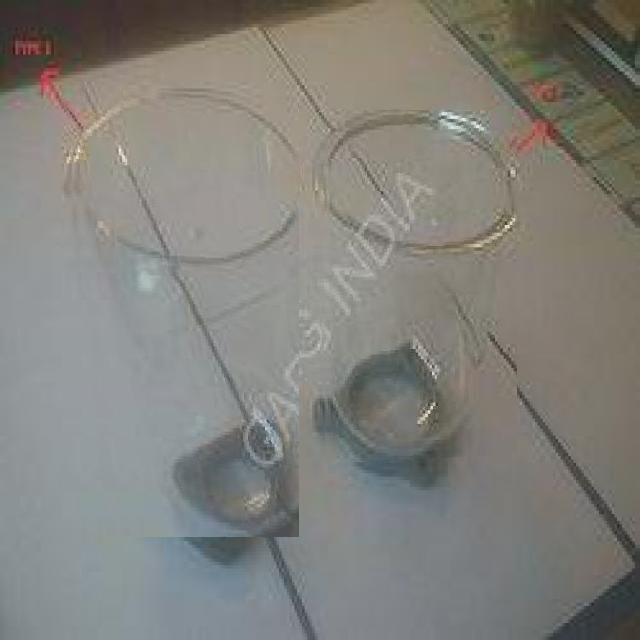Glass: (63, 85, 299, 538), (316, 110, 518, 464)
